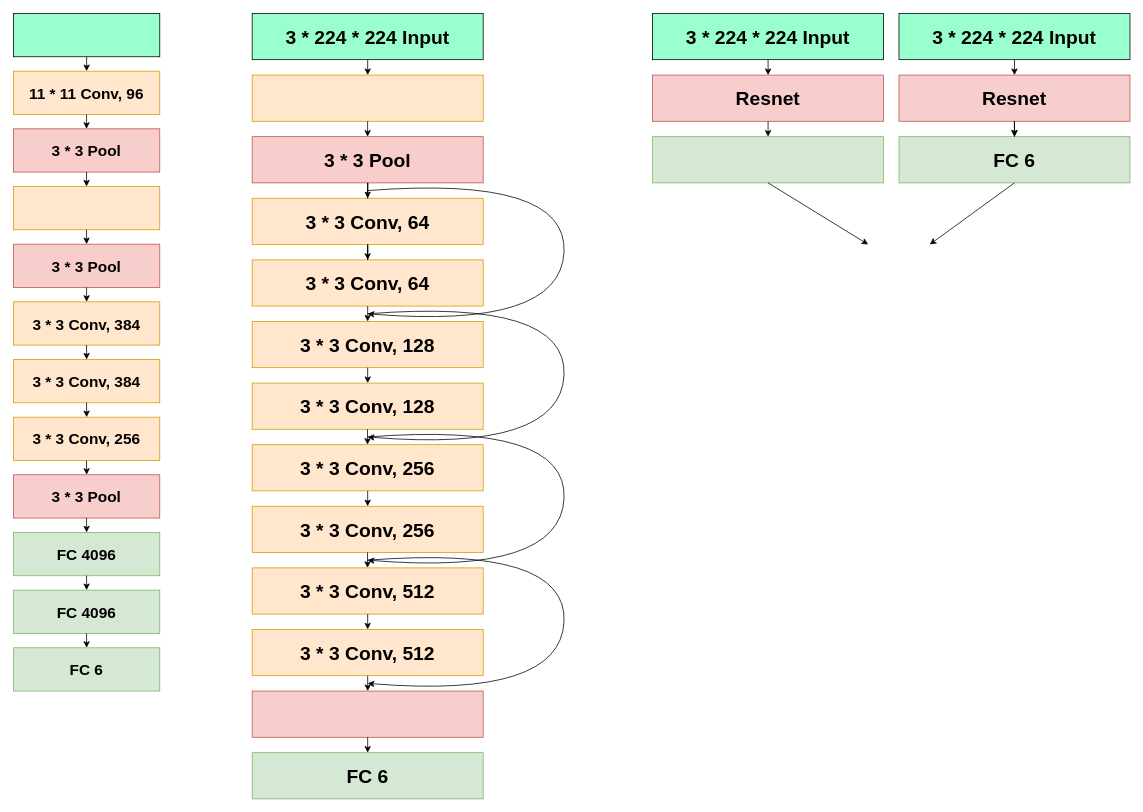
Image size: 1143x812. Some labels were removed from this diagram. The centre of each missing label's shape, as x and y in pixels:
"3 * 227 * 227 Input" belongs at point (86, 35).
"5 * 5 Conv, 256" belongs at point (86, 208).
"7 * 7 Conv, 64" belongs at point (367, 97).
"Avg Pool" belongs at point (367, 713).
"FC 2" belongs at point (768, 159).
